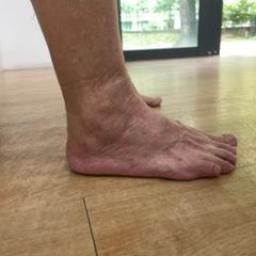Lateral View -Right Foot-: (48, 83, 246, 202)
